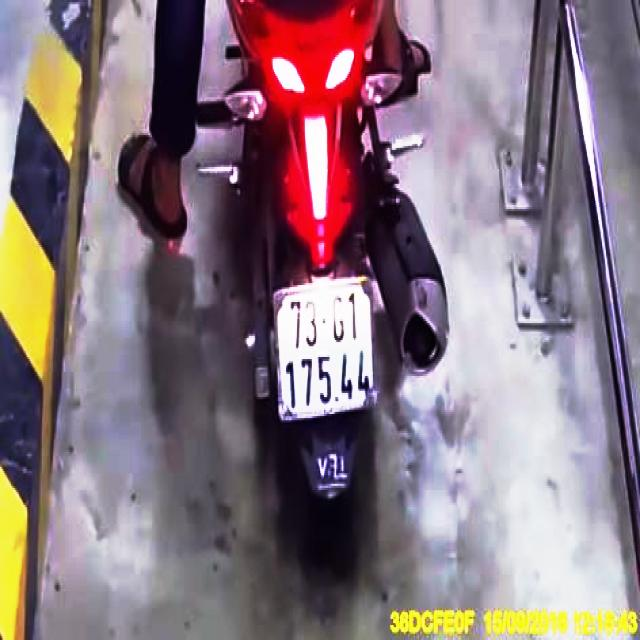license_plate: (277, 286, 376, 422)
